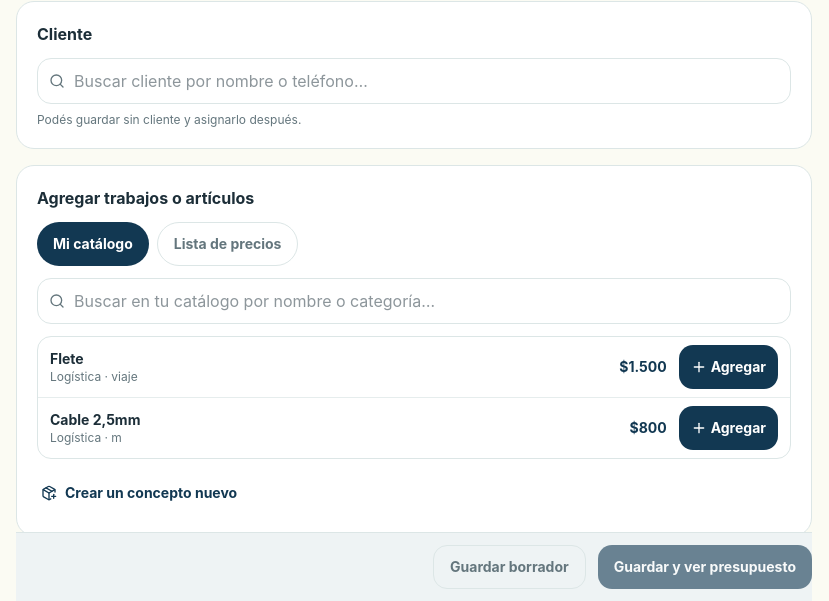
Test: líneas y conceptos propios › errores de línea se muestran junto al campo y no se envía nada
The width and height of the screenshot is (829, 601).
Click the button with aria-label "Agregar Flete": click(728, 367) [679, 345, 778, 389]
(page scrolled)
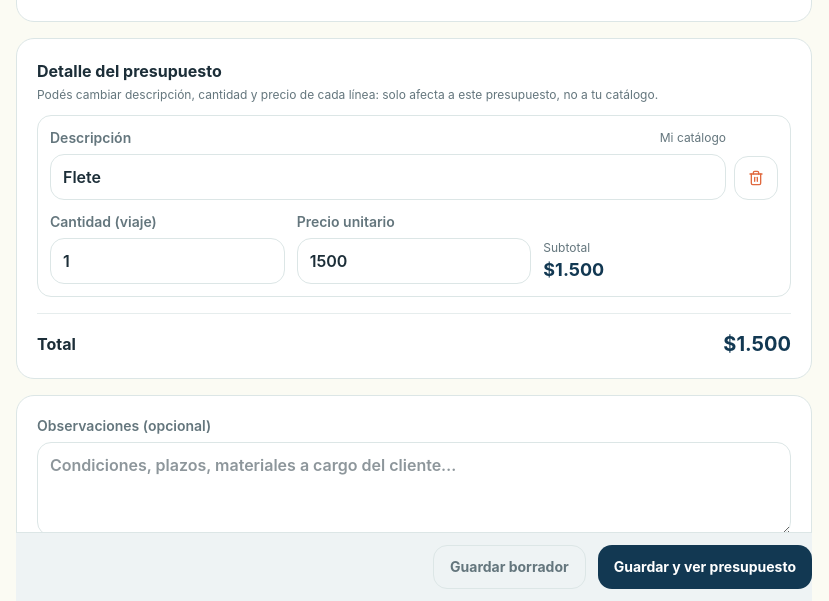
Replace the text in the field labelled "Cantidad (viaje)" with "0": (167, 261) [50, 238, 285, 284]
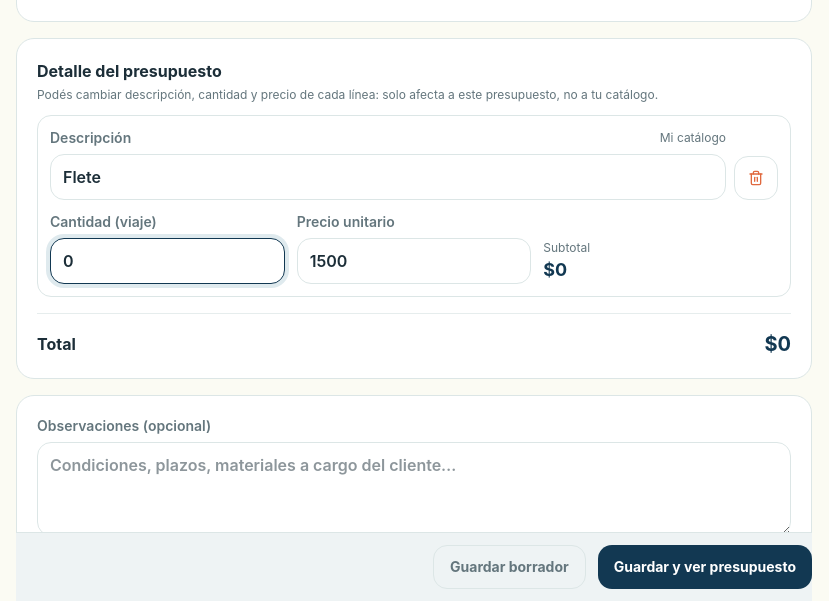
Click the button "Guardar borrador": click(509, 567) [433, 545, 586, 589]
(page scrolled)
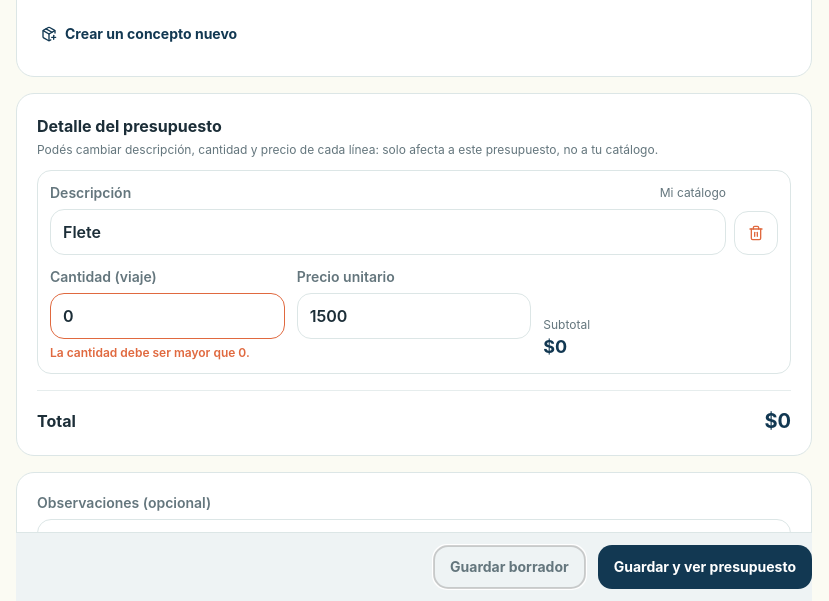
Expected: the text "La cantidad debe ser mayor que 0." is shown, [50, 345, 285, 361]
